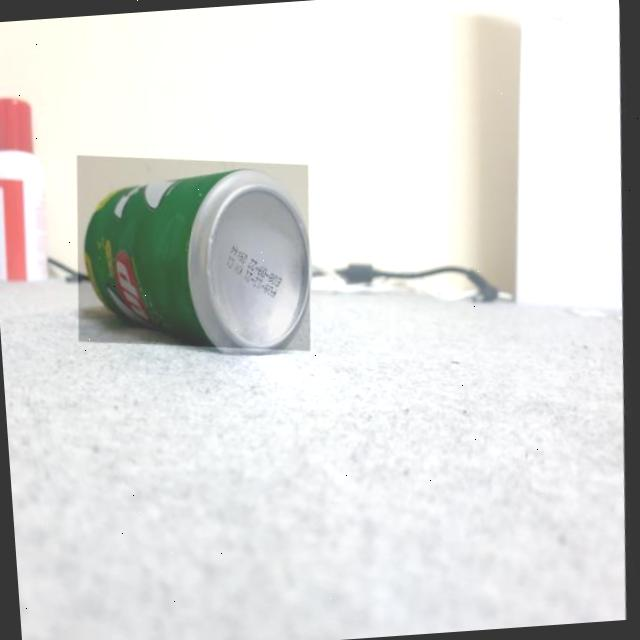trash: (69, 161, 314, 365)
